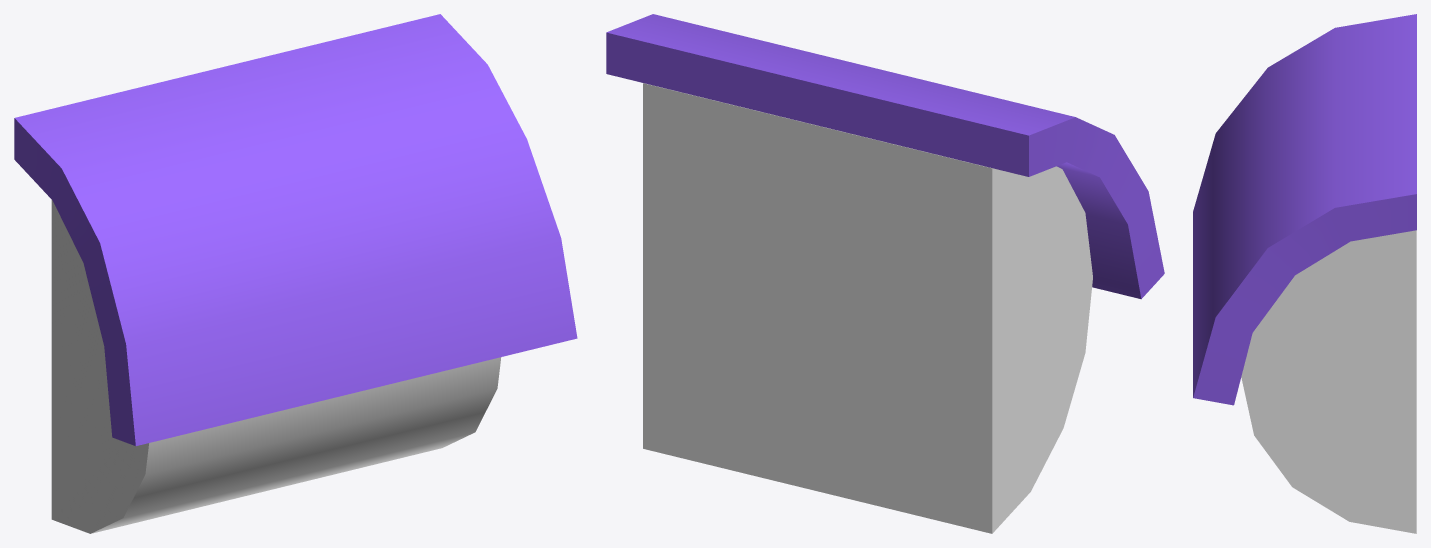
Rendered from sushi_end.fbx.
3 renders of one model, left to right at view 1: azimuth 30°, elevation 25°; view 2: azimuth 150°, elevation 25°; view 3: azimuth 270°, elevation 25°, orthographic. The views are drawn at different scales.
Visible parts, largest first — view 1: Cylinder.005, Cylinder.001; view 2: Cylinder.001, Cylinder.005; view 3: Cylinder.005, Cylinder.001.
Part boxes in pixels (left/top/right/bottom): Cylinder.005: left=14, top=14, right=577, bottom=445; Cylinder.001: left=51, top=200, right=501, bottom=533; Cylinder.001: left=643, top=83, right=1092, bottom=533; Cylinder.005: left=606, top=14, right=1164, bottom=299; Cylinder.005: left=1193, top=14, right=1416, bottom=405; Cylinder.001: left=1241, top=230, right=1416, bottom=533.
Bounding box in the file's own units: 251 × 223 × 127.
1 material, 1 textured.
